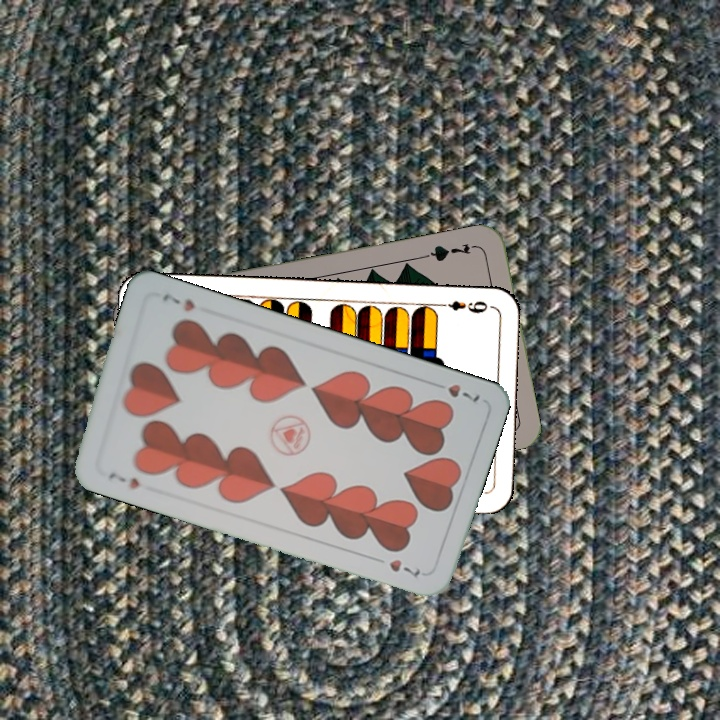E9: (434, 297, 490, 316)
G7: (422, 239, 481, 264)
H7: (444, 380, 483, 406), (104, 467, 142, 492)
